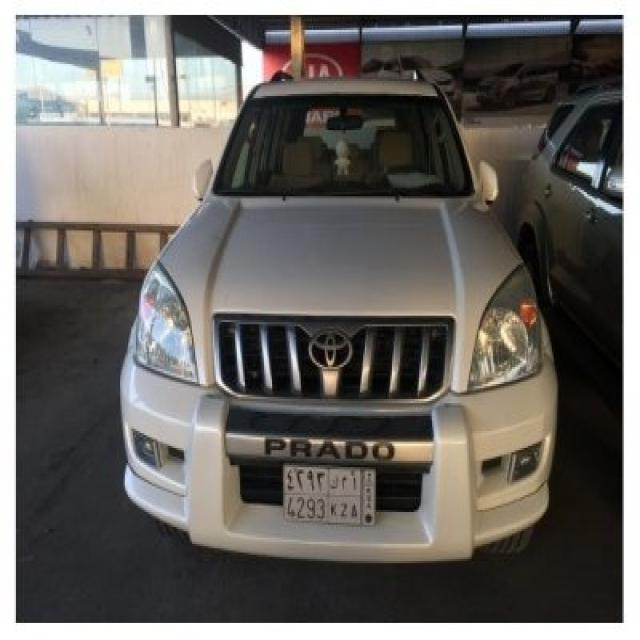license_plate: (282, 463, 376, 529)
